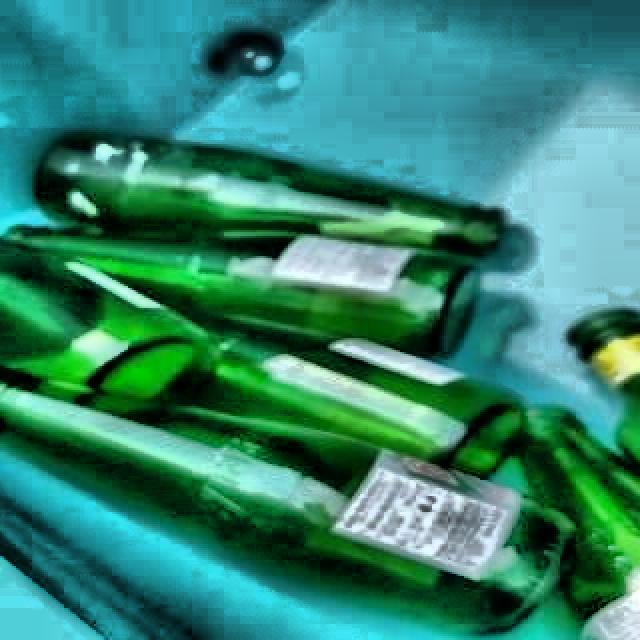glass: (0, 132, 640, 640)
